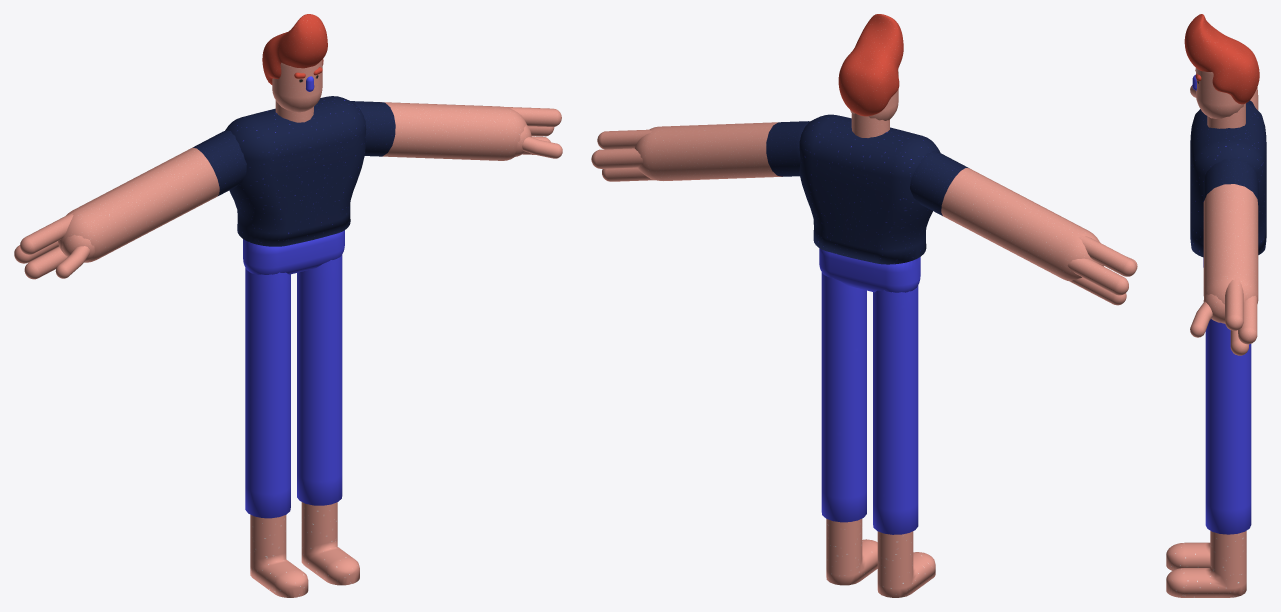
Rendered from mesh_char_69.fbx.
3 views of the same model, side by side, from view 1: azimuth 30°, elevation 25°; view 2: azimuth 150°, elevation 25°; view 3: azimuth 270°, elevation 25° (orthographic).
Visible parts, largest first — view 1: mesh_char_69; view 2: mesh_char_69; view 3: mesh_char_69.
Boxes of the visible parts, x1,y1,x2,y2 form: mesh_char_69: [14, 14, 562, 597]; mesh_char_69: [591, 14, 1137, 597]; mesh_char_69: [1166, 14, 1266, 597].
Bounding box in the file's own units: 16.65 × 16.61 × 2.68.
Materials: 5 (5 with a texture image).
